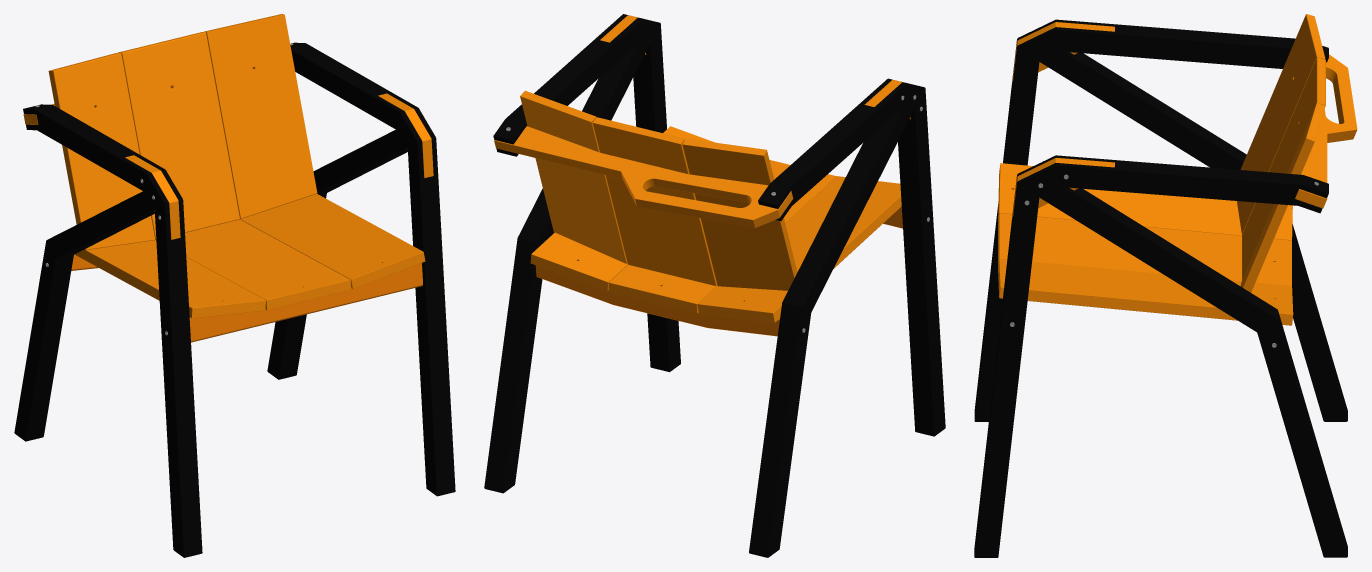
The model's file is cadeira_render.fbx.
The picture shows the model from 3 angles, left to right: view 1: azimuth 30°, elevation 25°; view 2: azimuth 150°, elevation 25°; view 3: azimuth 270°, elevation 25°; orthographic projection. The views are drawn at different scales.
Visible parts, largest first — view 1: perna reta (1) (×2), encosto direita (3), encosto novo final, perna curva (×2), encosto direita, assento direita (1) (1) (1), assento meio, braco (×2), assento direita (1) (1), Body1, novo maldito encaixe, novo maldito encaixe (1); view 2: perna curva (×2), perna reta (1) (×2), Body1 (×2), braco (×2), encosto novo final, encosto direita, encosto direita (3), assento direita (1) (1), assento meio, assento direita (1) (1) (1); view 3: perna curva (×2), braco (×2), perna reta (1) (×2), assento direita (1) (1) (1), assento meio, assento direita (1) (1), encosto direita, encosto novo final, Body1, encosto direita (3), novo maldito encaixe, novo maldito encaixe (1).
Part boxes in pixels (left/top/right/bottom): perna reta (1) (×2): left=154, top=138, right=455, bottom=557; encosto direita (3): left=204, top=14, right=317, bottom=218; encosto novo final: left=118, top=32, right=239, bottom=239; perna curva (×2): left=14, top=119, right=435, bottom=441; encosto direita: left=48, top=53, right=155, bottom=249; assento direita (1) (1) (1): left=240, top=194, right=425, bottom=288; assento meio: left=156, top=219, right=351, bottom=310; braco (×2): left=23, top=42, right=424, bottom=190; assento direita (1) (1): left=74, top=240, right=265, bottom=318; Body1: left=189, top=263, right=422, bottom=342; novo maldito encaixe: left=125, top=155, right=180, bottom=239; novo maldito encaixe (1): left=378, top=93, right=433, bottom=178; perna curva (×2): left=484, top=20, right=924, bottom=557; perna reta (1) (×2): left=633, top=23, right=945, bottom=436; Body1 (×2): left=494, top=126, right=793, bottom=336; braco (×2): left=493, top=14, right=913, bottom=220; encosto novo final: left=593, top=117, right=717, bottom=285; encosto direita: left=682, top=138, right=797, bottom=290; encosto direita (3): left=520, top=90, right=627, bottom=263; assento direita (1) (1): left=697, top=176, right=901, bottom=322; assento meio: left=608, top=160, right=835, bottom=313; assento direita (1) (1) (1): left=530, top=126, right=714, bottom=291; perna curva (×2): left=1017, top=27, right=1347, bottom=557; braco (×2): left=1041, top=19, right=1328, bottom=213; perna reta (1) (×2): left=974, top=39, right=1039, bottom=557; assento direita (1) (1) (1): left=998, top=258, right=1293, bottom=325; assento meio: left=998, top=213, right=1291, bottom=285; assento direita (1) (1): left=998, top=163, right=1292, bottom=240; encosto direita: left=1237, top=14, right=1325, bottom=234; encosto novo final: left=1242, top=57, right=1325, bottom=279; Body1: left=1295, top=54, right=1357, bottom=208; encosto direita (3): left=1240, top=102, right=1325, bottom=292; novo maldito encaixe: left=1012, top=22, right=1114, bottom=82; novo maldito encaixe (1): left=1012, top=157, right=1114, bottom=218.
Size of the model in its own units: 584 by 759 by 644.
